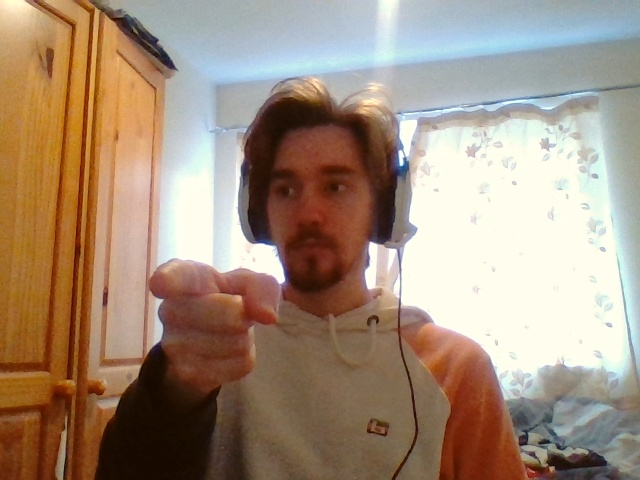you: (150, 259, 280, 386)
